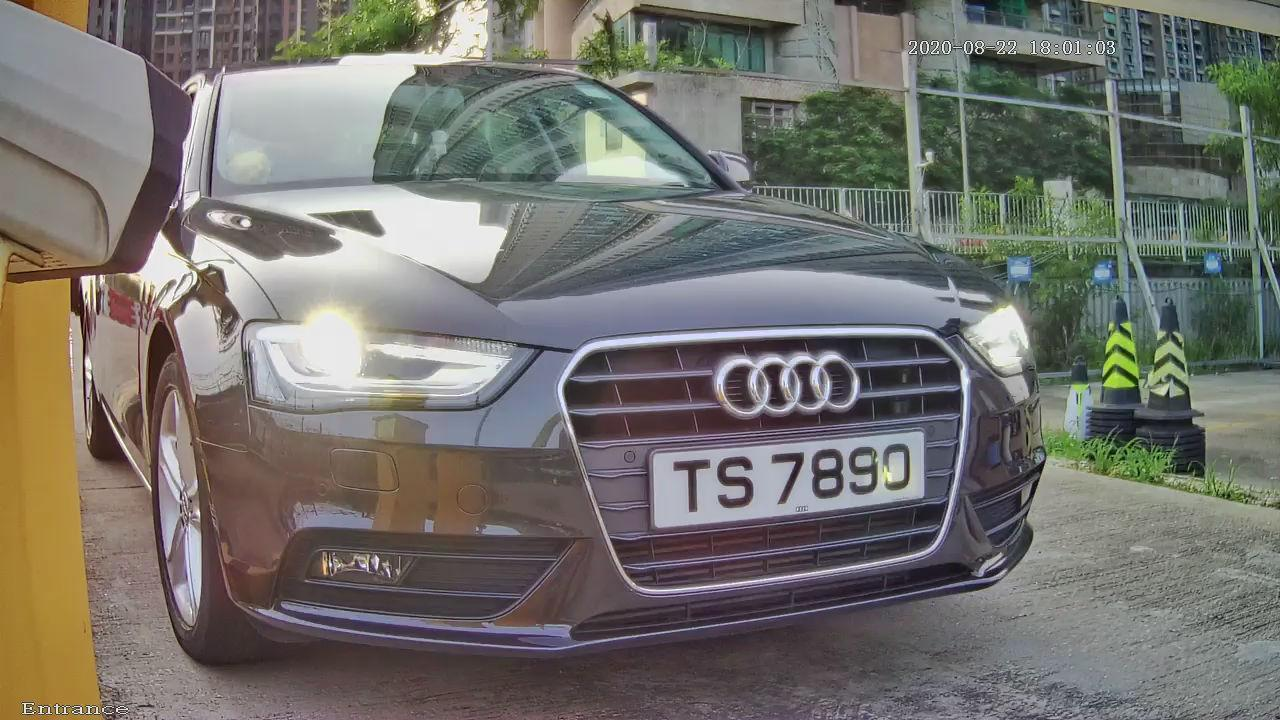Car: (23, 17, 1126, 692)
License Plate: (610, 411, 966, 550)
